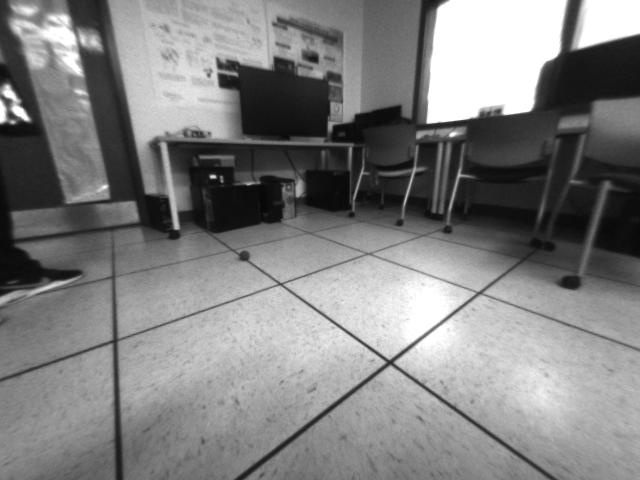dogtoy: (232, 244, 261, 265)
